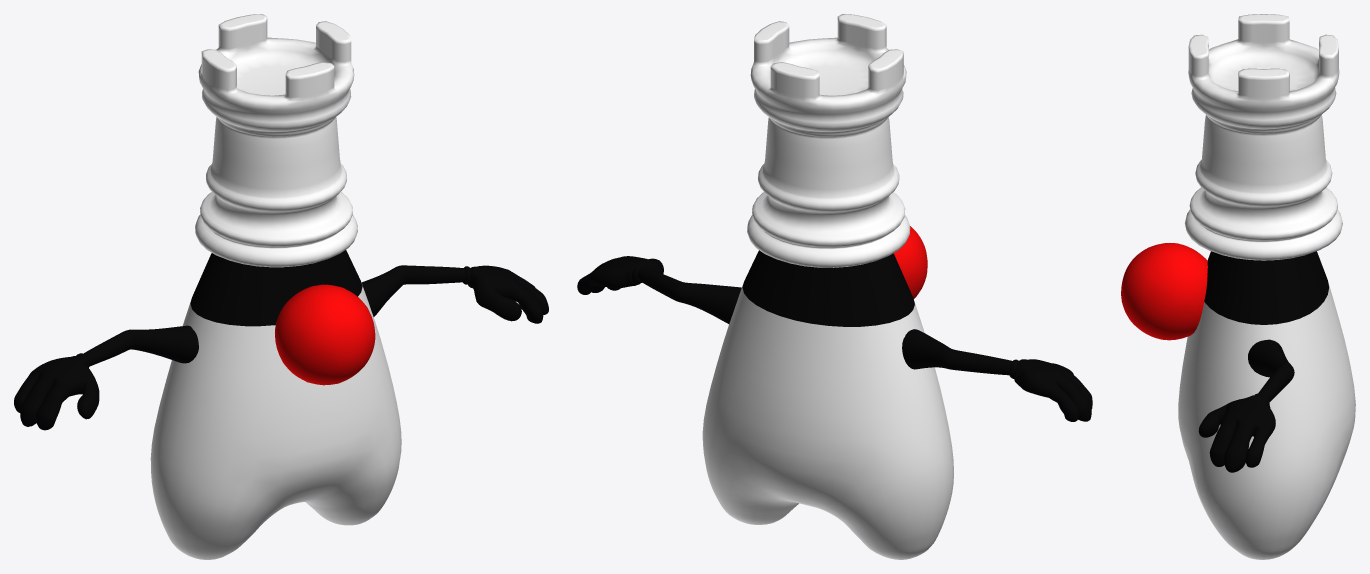
File: rook.fbx
3 views of the same model, side by side, from view 1: azimuth 30°, elevation 25°; view 2: azimuth 150°, elevation 25°; view 3: azimuth 270°, elevation 25° (orthographic). The views are drawn at different scales.
Parts seen in each view (by area): view 1: rook; view 2: rook; view 3: rook.
Boxes of the visible parts, x1=… form: rook: x1=14, y1=14, x2=548, y2=559; rook: x1=577, y1=14, x2=1092, y2=559; rook: x1=1121, y1=14, x2=1355, y2=559.
Bounding box in the file's own units: 2520 × 2304 × 1030.
